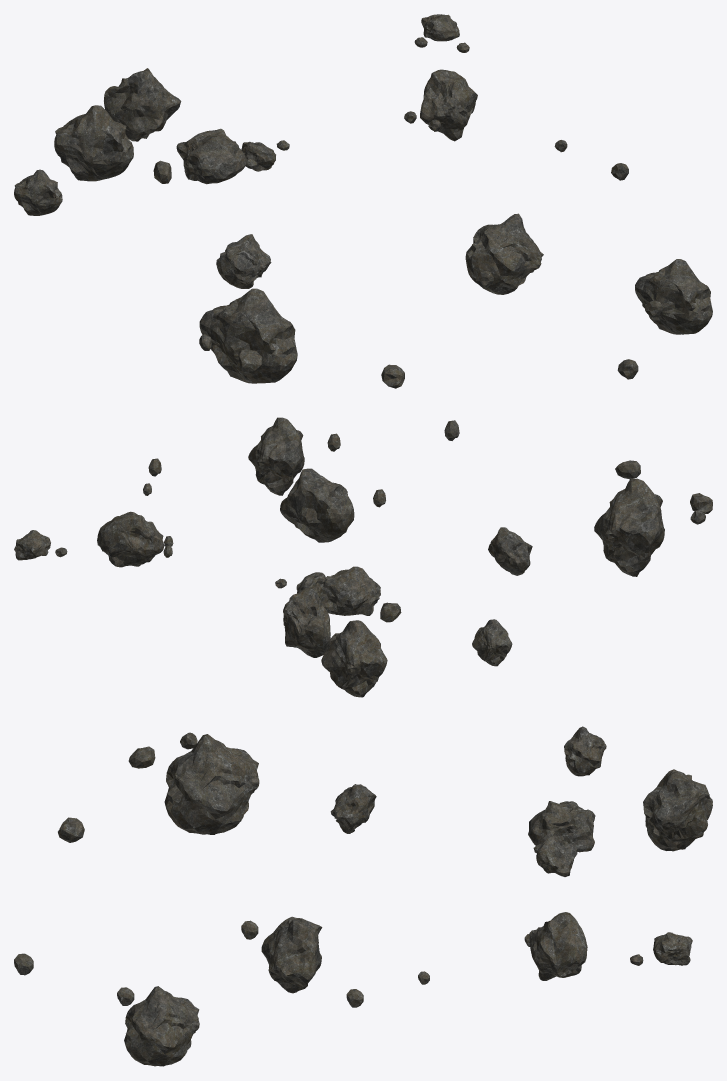
The model's file is rocks.glb.
3 views of the same model, one above another, from view 1: azimuth 30°, elevation 25°; view 2: azimuth 150°, elevation 25°; view 3: azimuth 270°, elevation 25° (orthographic). The views are drawn at different scales.
Parts seen in each view (by area): view 1: Rocks; view 2: Rocks; view 3: Rocks.
Part boxes in pixels (x1=…): Rocks: x1=14, y1=14, x2=712, y2=388; Rocks: x1=14, y1=417, x2=712, y2=697; Rocks: x1=14, y1=726, x2=712, y2=1066.
Size of the model in its own units: 10.42 by 2.91 by 12.12.
Materials: 1 (1 with a texture image).
